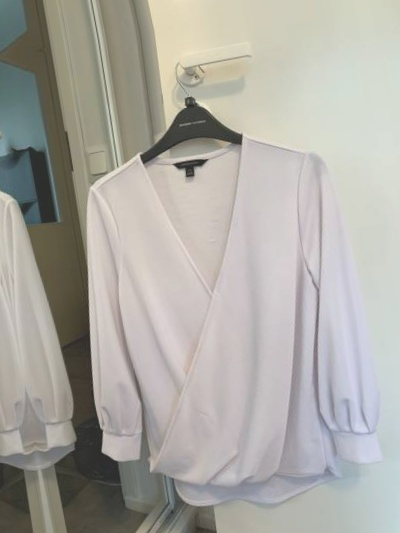Blouse: (46, 82, 400, 528)
